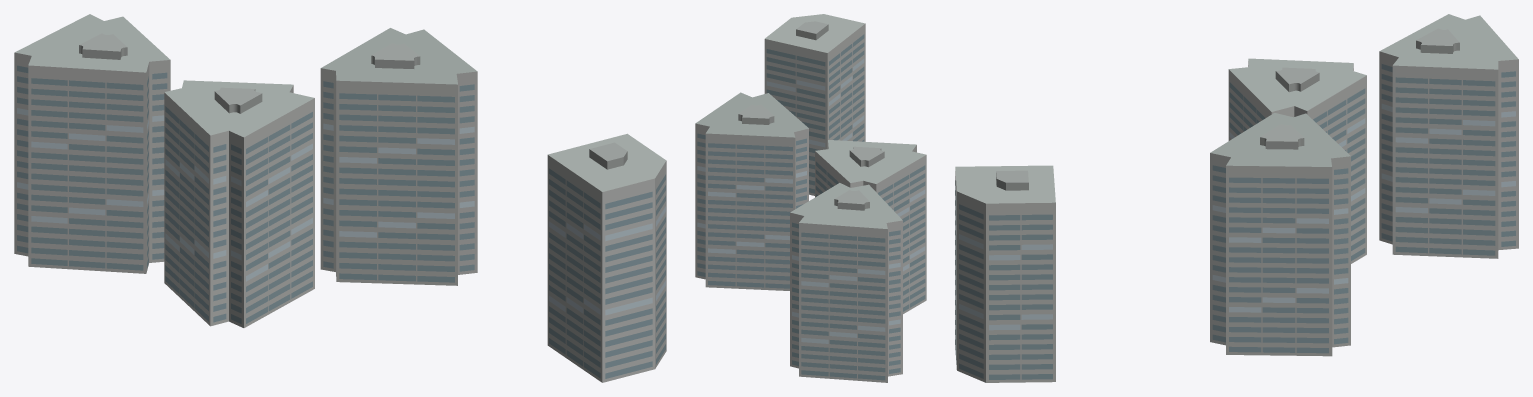
File: apt-a12275501.glb
3 renders of one model, left to right at view 1: azimuth 30°, elevation 25°; view 2: azimuth 150°, elevation 25°; view 3: azimuth 270°, elevation 25°, orthographic. The views are drawn at different scales.
Parts seen in each view (by area): view 1: apt-a12275501; view 2: apt-a12275501; view 3: apt-a12275501.
Boxes of the visible parts, x1,y1,x2,y2 form: apt-a12275501: [14, 14, 666, 382]; apt-a12275501: [695, 14, 926, 382]; apt-a12275501: [955, 14, 1518, 382].
Size of the model in its own units: 117 by 60 by 156.
